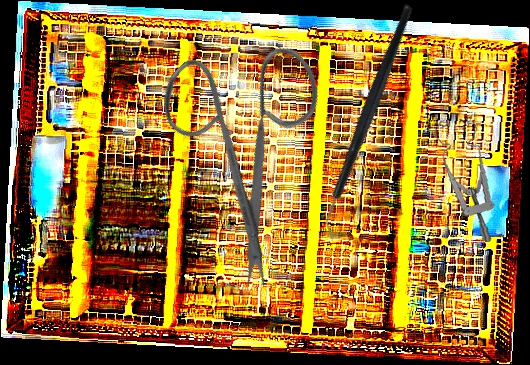Chopper: (255, 2, 485, 244)
Iris Scissors: (106, 1, 400, 297)
Speculum: (422, 116, 506, 243)
